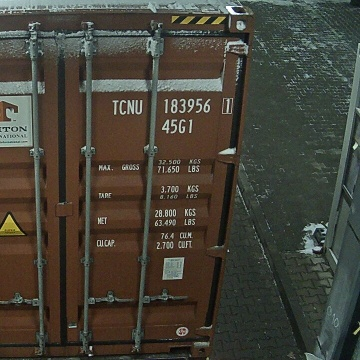serial_id: (112, 98, 230, 114)
